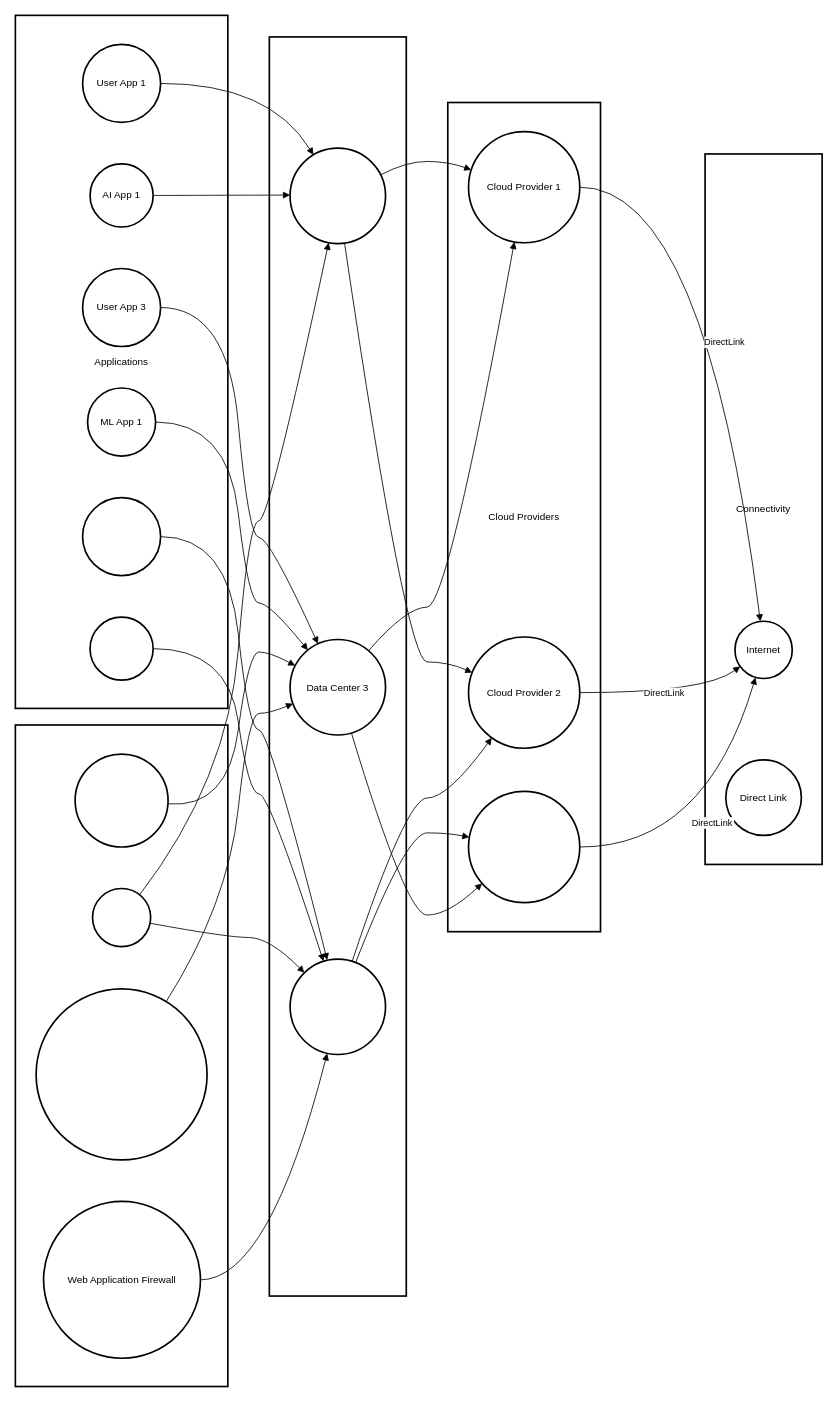
This 837x1401 diagram has some shape labels left out. The shapes that lost their labels are listed below. From the top down, each one's box as (x1, y1, x2, y2) in pixels, then its label:
(289, 147, 386, 244): Data Center 1
(81, 496, 161, 576): User App 2
(89, 616, 154, 681): AI App 2
(74, 753, 168, 847): SIEM System
(467, 790, 580, 903): Cloud Provider 3
(91, 887, 151, 947): Firewall
(289, 958, 386, 1055): Data Center 2
(35, 988, 208, 1160): Intrusion Detection System
